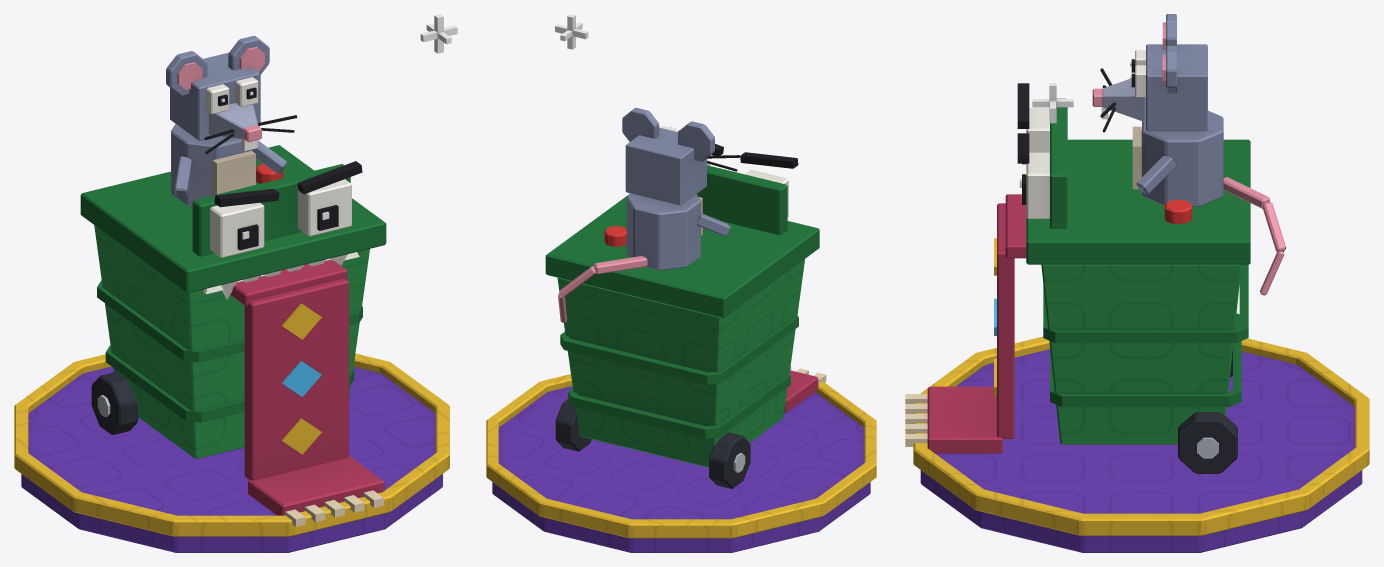
The model's file is TrashGobbler.fbx.
3 views of the same model, side by side, from view 1: azimuth 30°, elevation 25°; view 2: azimuth 150°, elevation 25°; view 3: azimuth 270°, elevation 25° (orthographic). The views are drawn at different scales.
Visible parts, largest first — view 1: Art_TrashGobbler_Stand, Art_TrashGobbler_Tongue, Art_TrashGobbler_Body, Art_TrashGobbler_Lid, Art_TrashGobbler_Rat, Art_TrashGobbler_EyeR, Art_TrashGobbler_EyeL, Art_TrashGobbler_WheelL; view 2: Art_TrashGobbler_Stand, Art_TrashGobbler_Body, Art_TrashGobbler_Lid, Art_TrashGobbler_Rat, Art_TrashGobbler_EyeR, Art_TrashGobbler_WheelL, Art_TrashGobbler_WheelR, Art_TrashGobbler_EyeL, Art_TrashGobbler_Tongue; view 3: Art_TrashGobbler_Stand, Art_TrashGobbler_Body, Art_TrashGobbler_Lid, Art_TrashGobbler_Rat, Art_TrashGobbler_Tongue, Art_TrashGobbler_EyeR, Art_TrashGobbler_WheelR, Art_TrashGobbler_EyeL.
Part boxes in pixels (x1,y1,x2,y2): Art_TrashGobbler_Stand: (14,14,457,552); Art_TrashGobbler_Tongue: (230,259,384,526); Art_TrashGobbler_Body: (94,163,369,459); Art_TrashGobbler_Lid: (80,145,386,299); Art_TrashGobbler_Rat: (166,36,297,206); Art_TrashGobbler_EyeR: (192,161,362,256); Art_TrashGobbler_EyeL: (210,188,279,257); Art_TrashGobbler_WheelL: (91,372,138,434); Art_TrashGobbler_Stand: (486,14,876,552); Art_TrashGobbler_Body: (557,225,804,467); Art_TrashGobbler_Lid: (545,193,819,317); Art_TrashGobbler_Rat: (558,107,739,322); Art_TrashGobbler_EyeR: (671,127,787,235); Art_TrashGobbler_WheelL: (709,432,750,488); Art_TrashGobbler_WheelR: (555,399,591,451); Art_TrashGobbler_EyeL: (740,152,798,216); Art_TrashGobbler_Tongue: (784,366,826,412); Art_TrashGobbler_Stand: (913,83,1369,552); Art_TrashGobbler_Body: (1041,200,1248,444); Art_TrashGobbler_Lid: (1026,139,1250,264); Art_TrashGobbler_Rat: (1092,14,1286,295); Art_TrashGobbler_Tongue: (905,194,1026,453); Art_TrashGobbler_EyeR: (1017,98,1067,228); Art_TrashGobbler_WheelR: (1178,412,1237,473); Art_TrashGobbler_EyeL: (1017,83,1049,164).
Bounding box in the file's own units: 3.09 × 3.44 × 3.15.
